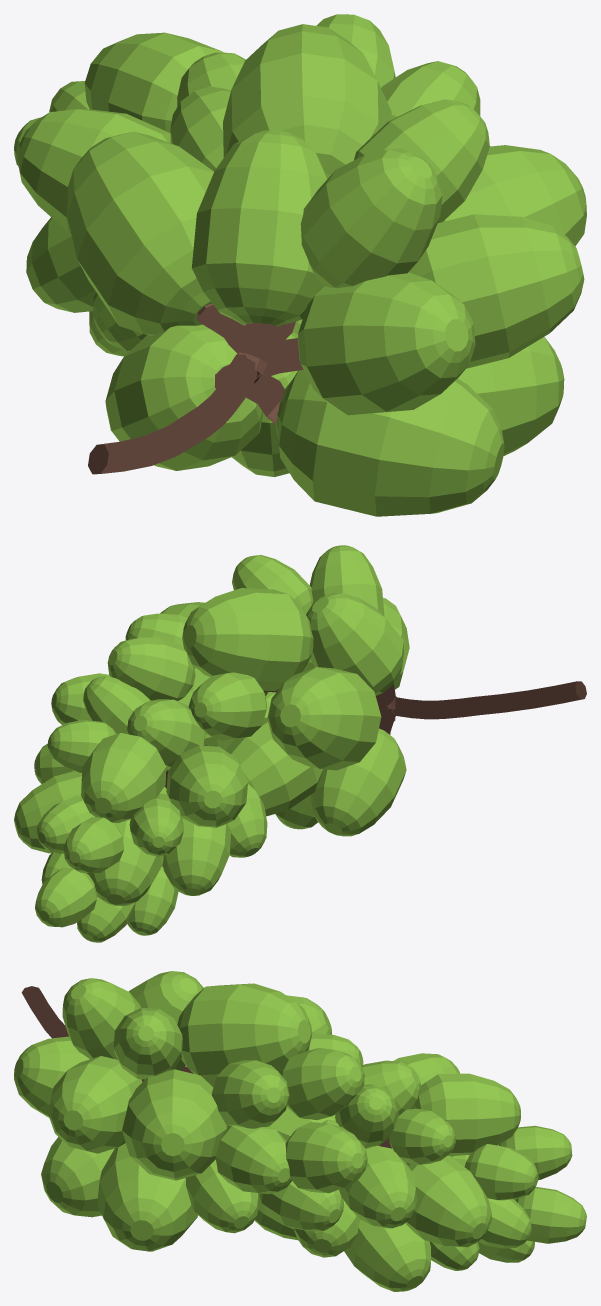
Rendered from Green Grapes.glb.
3 views of the same model, one above another, from view 1: azimuth 30°, elevation 25°; view 2: azimuth 150°, elevation 25°; view 3: azimuth 270°, elevation 25° (orthographic). The views are drawn at different scales.
Visible parts, largest first — view 1: Node; view 2: Node; view 3: Node.
Part boxes in pixels (bbox=[...]): Node: bbox=[14, 14, 586, 516]; Node: bbox=[14, 545, 586, 942]; Node: bbox=[14, 971, 586, 1291].
Size of the model in its own units: 0.9909 by 0.6517 by 1.26.
